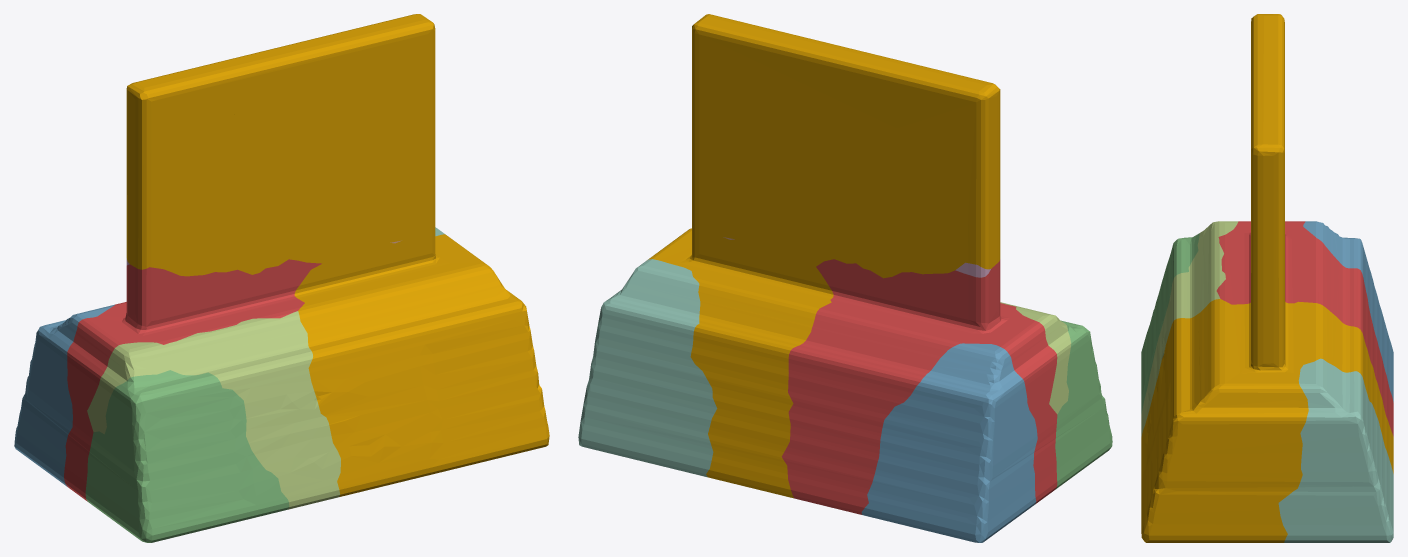
File: fractured_12_8pcs.glb
3 renders of one model, left to right at view 1: azimuth 30°, elevation 25°; view 2: azimuth 150°, elevation 25°; view 3: azimuth 270°, elevation 25°, orthographic. The views are drawn at different scales.
Visible parts, largest first — view 1: piece_0.obj, piece_3.obj, piece_5.obj, piece_1.obj, piece_2.obj; view 2: piece_0.obj, piece_1.obj, piece_2.obj, piece_4.obj, piece_3.obj, piece_5.obj; view 3: piece_0.obj, piece_4.obj, piece_1.obj, piece_5.obj, piece_2.obj, piece_3.obj.
Part boxes in pixels (x1,y1,x2,y2): piece_0.obj: (126, 14, 549, 496); piece_3.obj: (85, 370, 289, 542); piece_5.obj: (87, 311, 340, 509); piece_1.obj: (64, 259, 321, 501); piece_2.obj: (14, 304, 114, 486); piece_0.obj: (648, 14, 1000, 498); piece_1.obj: (781, 259, 1057, 514); piece_2.obj: (861, 343, 1037, 542); piece_4.obj: (578, 259, 717, 477); piece_3.obj: (1055, 320, 1112, 489); piece_5.obj: (1000, 302, 1071, 414); piece_0.obj: (1141, 14, 1393, 542); piece_4.obj: (1278, 358, 1393, 542); piece_1.obj: (1216, 221, 1393, 436); piece_5.obj: (1141, 221, 1238, 436); piece_2.obj: (1303, 221, 1393, 402); piece_3.obj: (1141, 233, 1199, 413).
Size of the model in its own units: 1 by 0.9277 by 0.5692.
